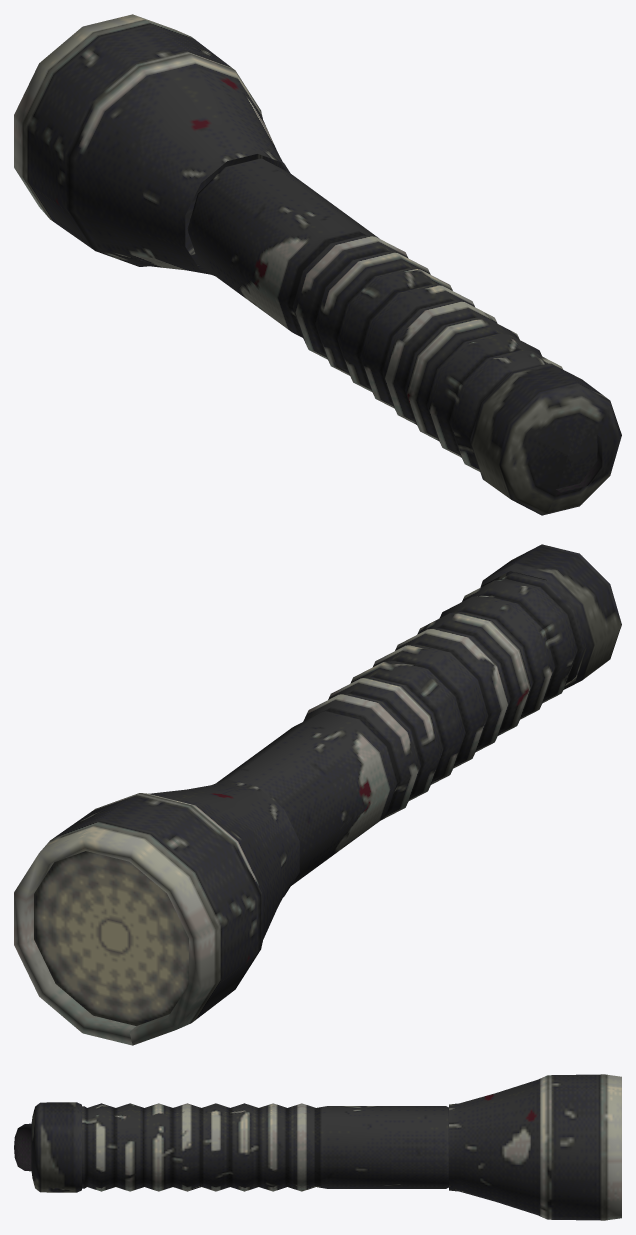
Rendered from flashlight.obj.
3 views of the same model, one above another, from view 1: azimuth 30°, elevation 25°; view 2: azimuth 150°, elevation 25°; view 3: azimuth 270°, elevation 25° (orthographic). The views are drawn at different scales.
Visible parts, largest first — view 1: flashlight; view 2: flashlight; view 3: flashlight.
Boxes of the visible parts, left/top/right/bottom form: flashlight: left=14, top=14, right=621, bottom=515; flashlight: left=14, top=544, right=621, bottom=1045; flashlight: left=14, top=1074, right=621, bottom=1220.
Size of the model in its own units: 0.0551 by 0.0551 by 0.2336.
Materials: 2 (2 with a texture image).
